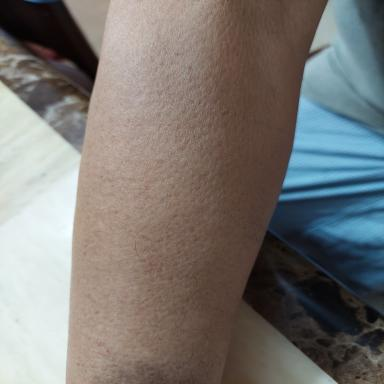normal skin: (67, 0, 325, 384)
